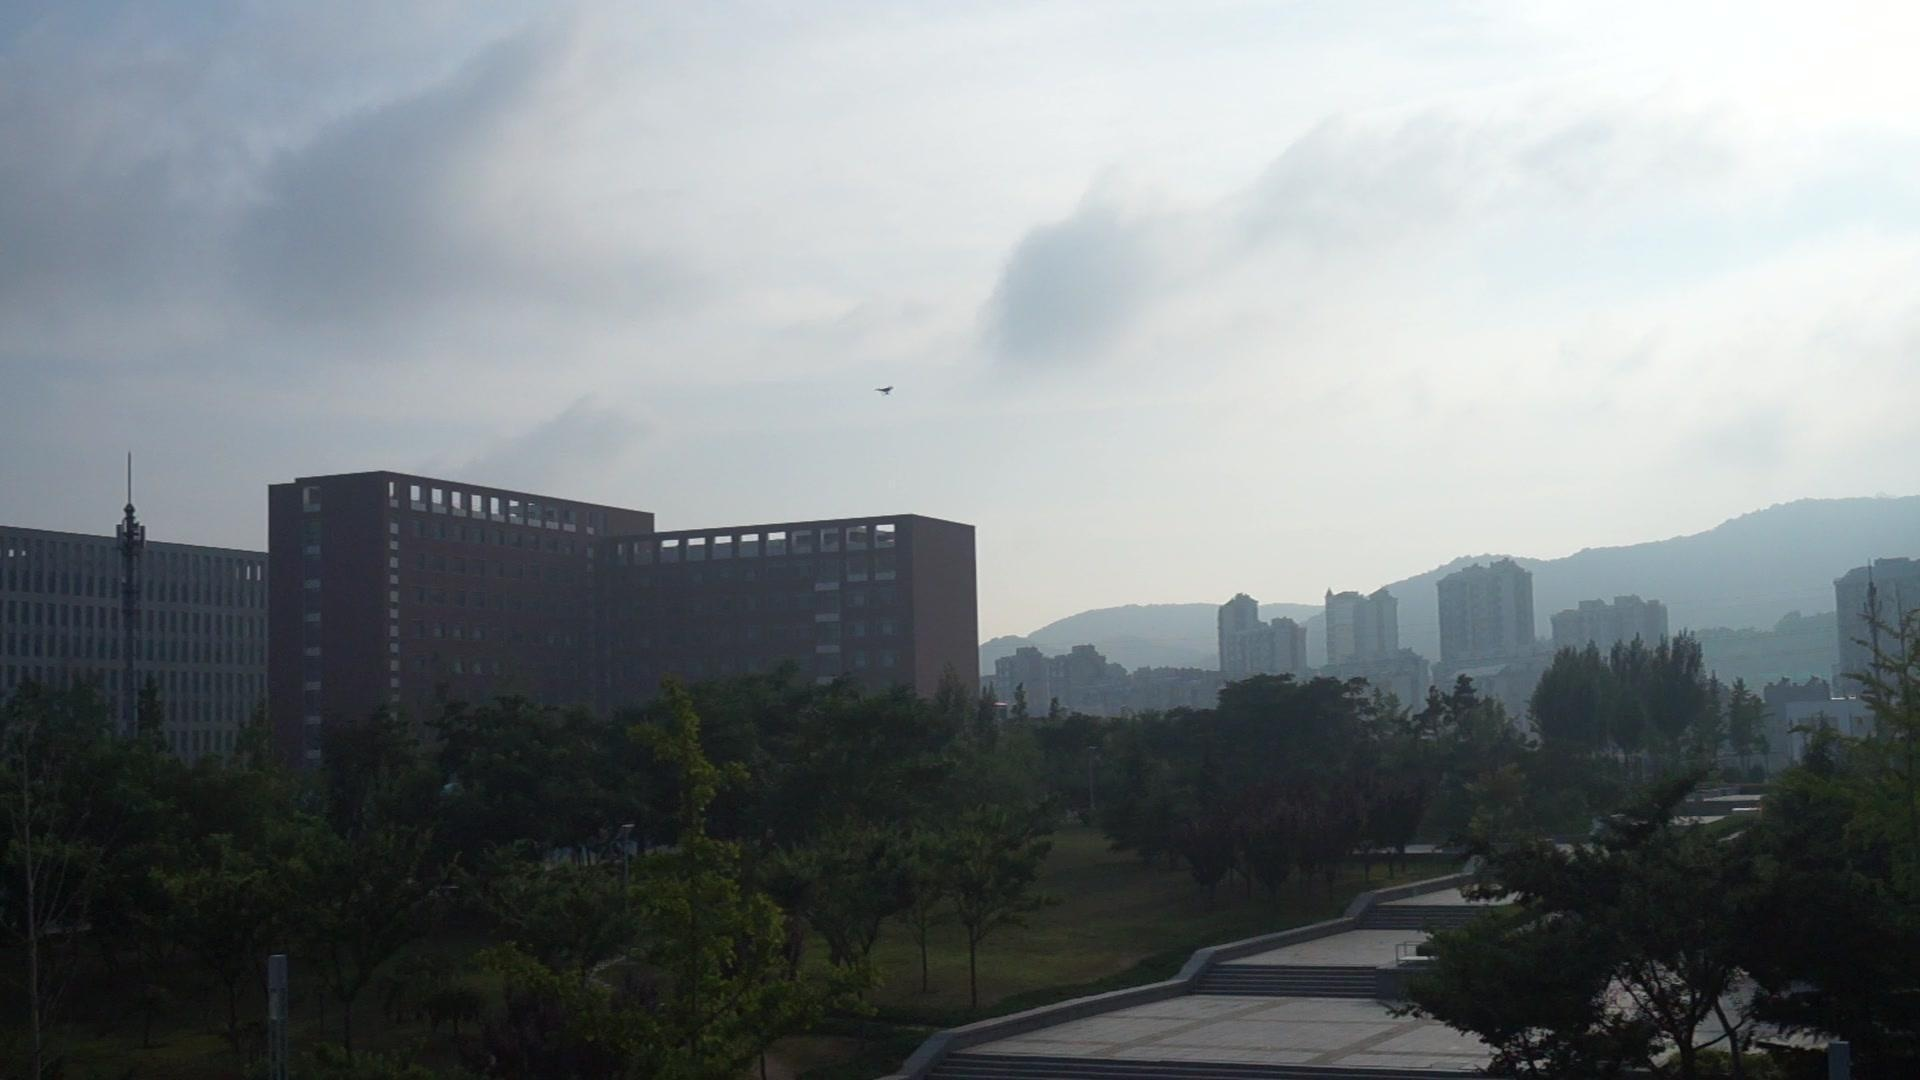UAV: (876, 386, 895, 397)
